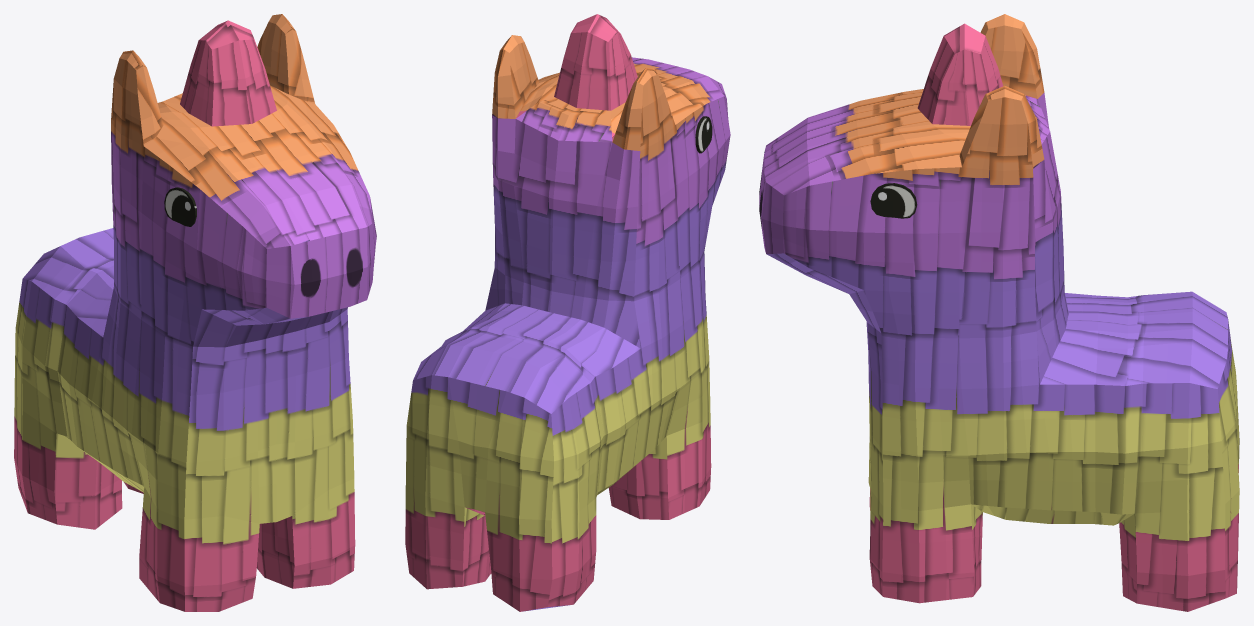
Rendered from pinata.fbx.
The picture shows the model from 3 angles, left to right: view 1: azimuth 30°, elevation 25°; view 2: azimuth 150°, elevation 25°; view 3: azimuth 270°, elevation 25°; orthographic projection. The views are drawn at different scales.
Parts seen in each view (by area): view 1: eye2; view 2: eye2; view 3: eye2.
Boxes of the visible parts, x1=… form: eye2: x1=14, y1=14, x2=376, y2=611; eye2: x1=405, y1=14, x2=730, y2=611; eye2: x1=759, y1=14, x2=1239, y2=611.
Size of the model in its own units: 56.19 by 156 by 124.
